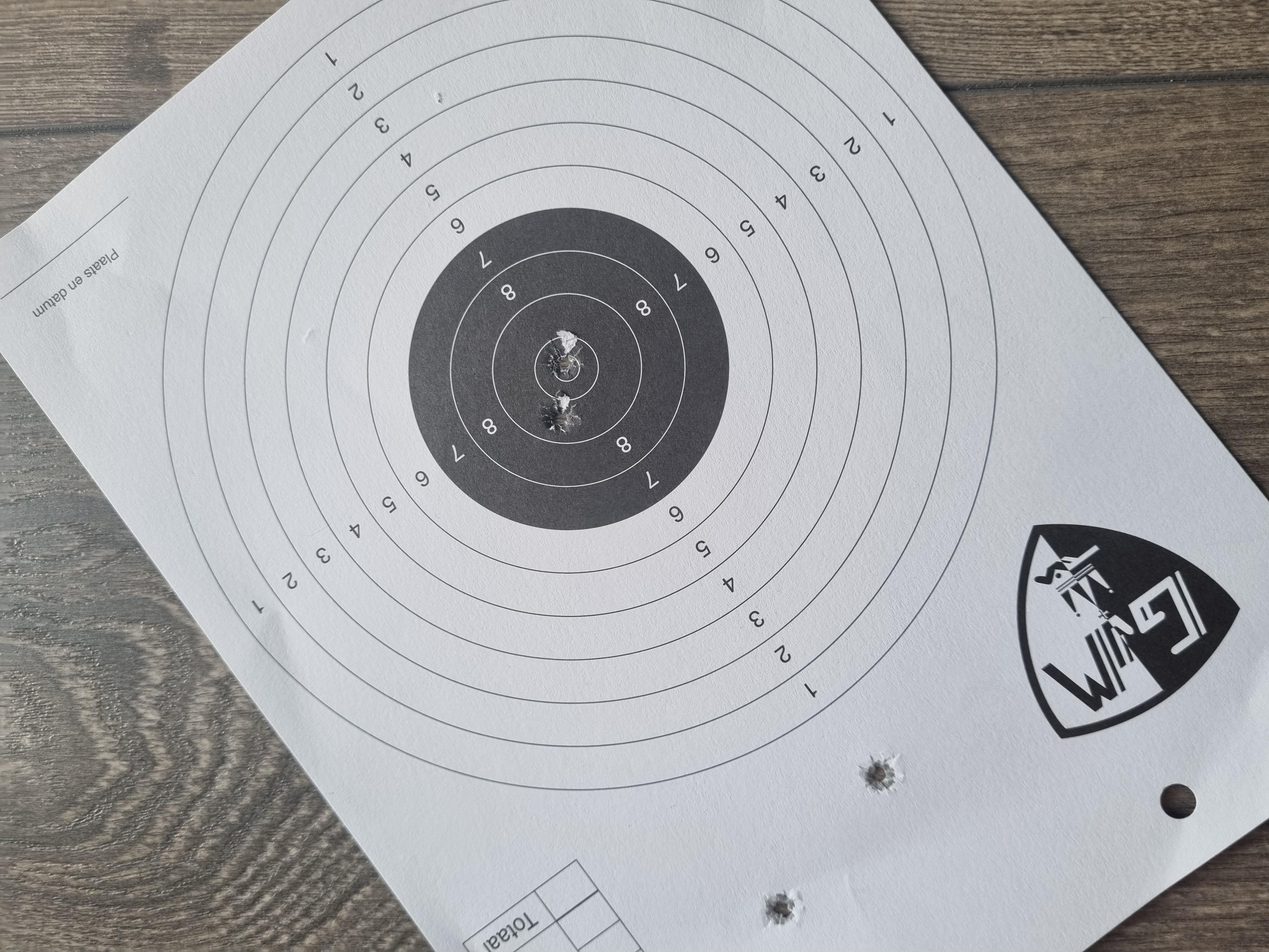hole: (767, 409, 827, 439), (689, 405, 745, 435), (214, 643, 264, 675), (34, 573, 79, 598)
